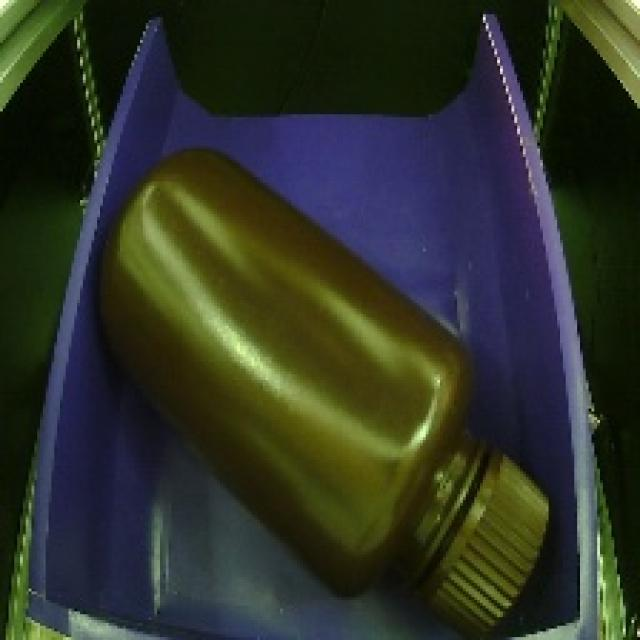plastic: (69, 114, 574, 640)
